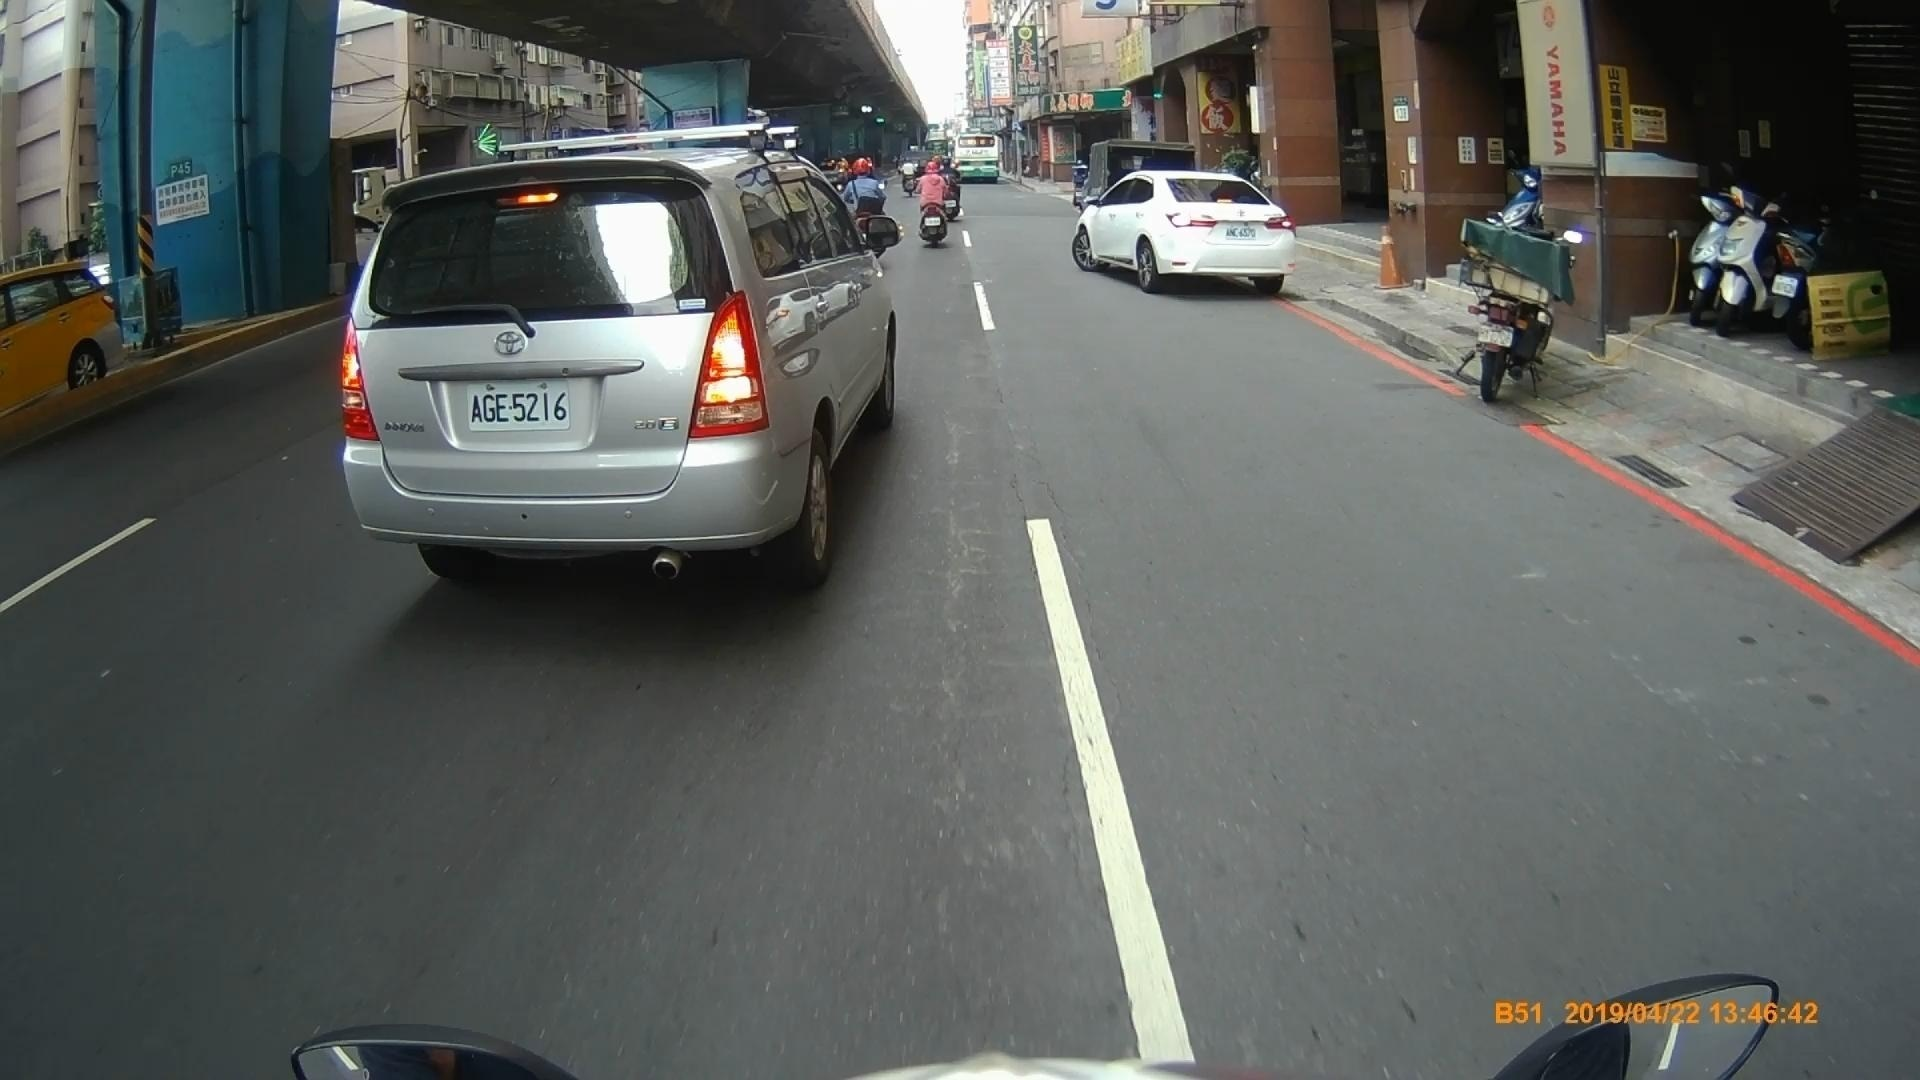License_plate: (464, 375, 573, 431), (1222, 227, 1261, 244)
